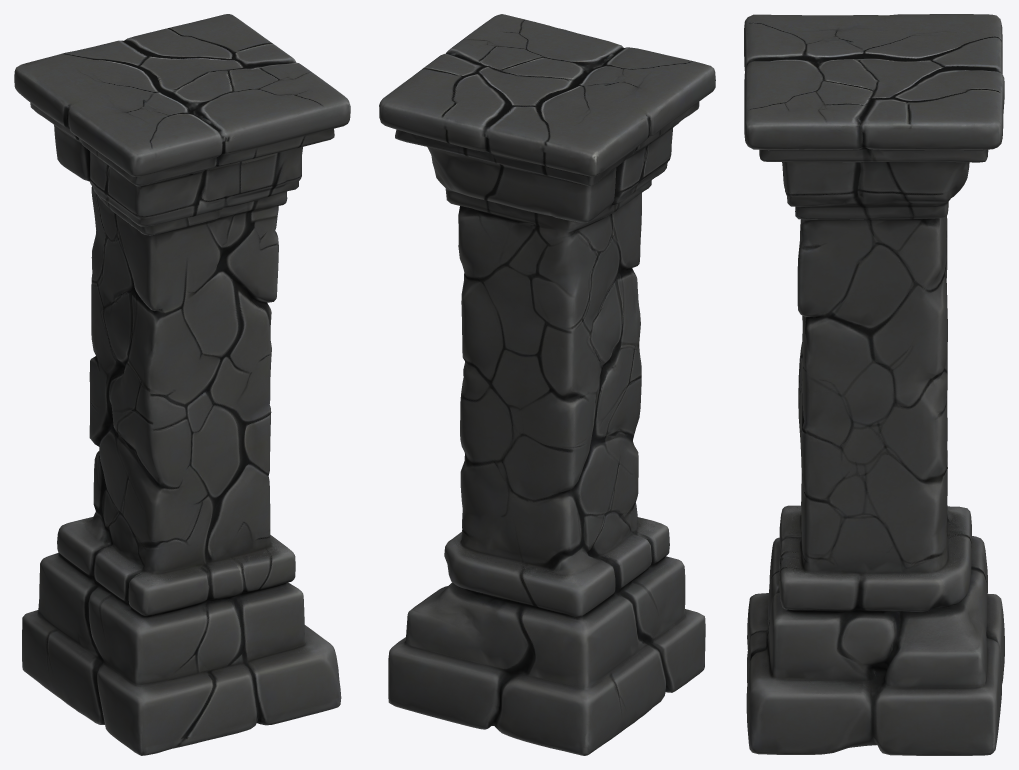
File: destructible_pillar.glb
3 renders of one model, left to right at view 1: azimuth 30°, elevation 25°; view 2: azimuth 150°, elevation 25°; view 3: azimuth 270°, elevation 25°, orthographic. The views are drawn at different scales.
Size of the model in its own units: 0.7603 by 2 by 0.7393.
Materials: 1 (1 with a texture image).
